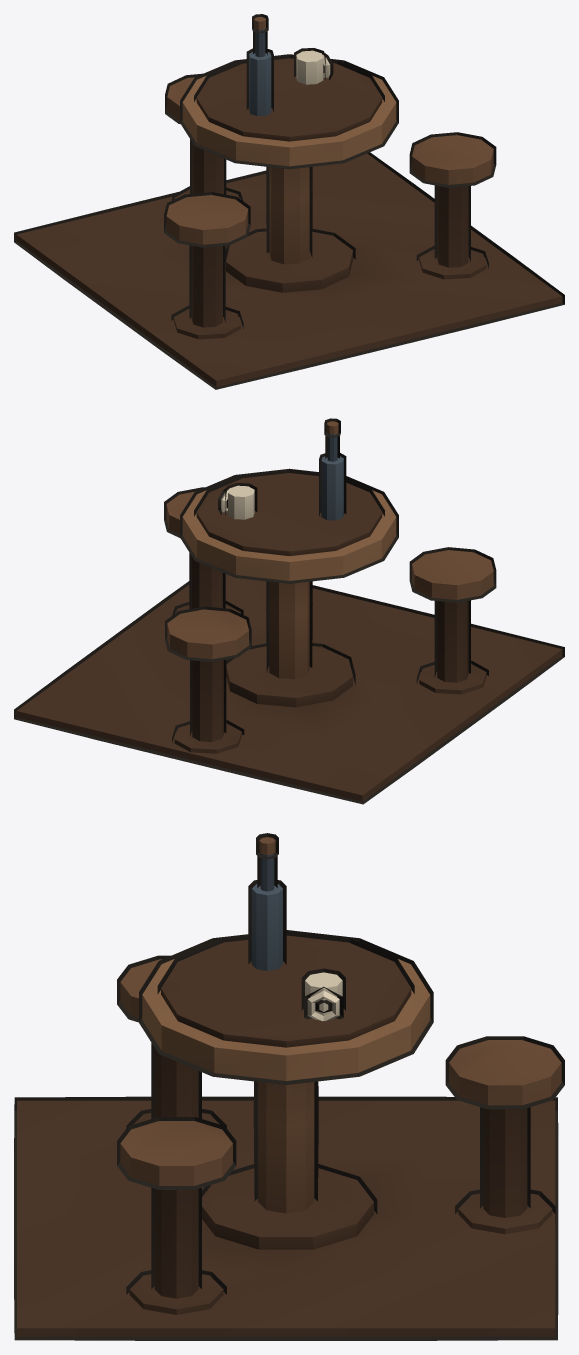
File: table_tabourets.glb
3 renders of one model, top to bottom at view 1: azimuth 30°, elevation 25°; view 2: azimuth 150°, elevation 25°; view 3: azimuth 270°, elevation 25°, orthographic. The views are drawn at different scales.
Visible parts, largest first — view 1: table_tabourets, table_tabourets_outline; view 2: table_tabourets, table_tabourets_outline; view 3: table_tabourets, table_tabourets_outline.
Boxes of the visible parts, <box> form: table_tabourets: <box>16,17,562,386</box>; table_tabourets_outline: <box>14,14,564,389</box>; table_tabourets: <box>16,421,562,801</box>; table_tabourets_outline: <box>14,418,564,804</box>; table_tabourets: <box>17,837,561,1336</box>; table_tabourets_outline: <box>14,833,564,1340</box>.
Size of the model in its own units: 1.74 by 1.29 by 1.76.
